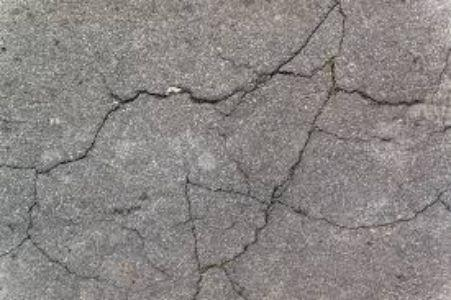alligator-crack: (9, 5, 451, 300)
